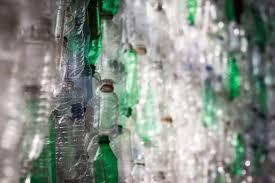Plastic bottle: (1, 4, 275, 183)
